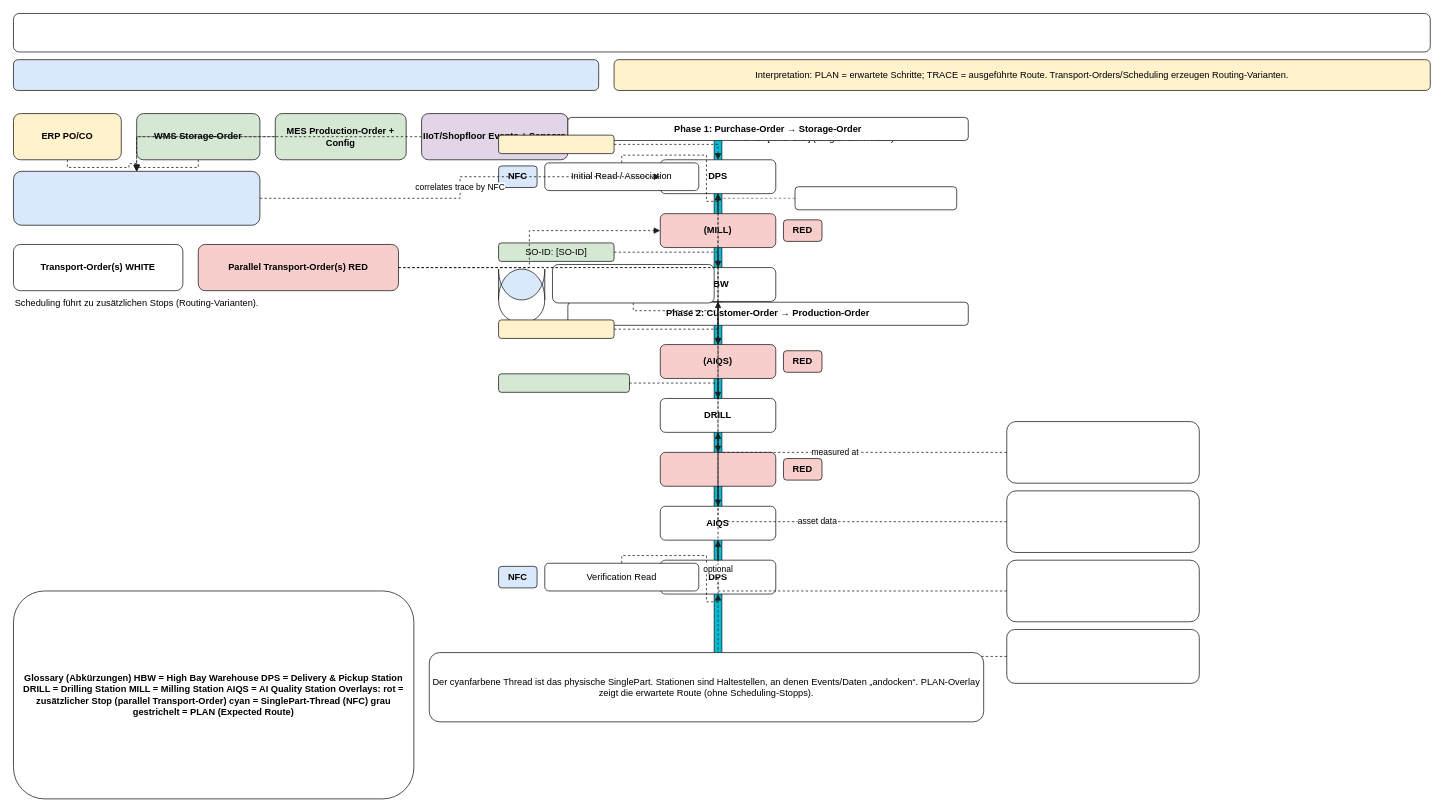
Some shapes in this 1444 by 812 pixel diagram are drawn without their labels. The shapes that lost their labels are listed below. From the top down, each one's centre as x and y in pixels, then its label:
At (x=721, y=32): "Track & Trace — Timeline (Vertical) | Produkt WHITE".
At (x=306, y=74): "NFC / Workpiece-ID (Join-Key): [NFC-UID] | Zeitraum: [t0..tN]".
At (x=556, y=144): "PO-ID: [PO-ID]".
At (x=136, y=198): "ORBIS DSP Korrelation + Enrichment (Join-Key = NFC)".
At (x=875, y=198): "PLAN-Overlay (Expected Route)".
At (x=633, y=283): "Linked to Bin: [BIN-ID] (z.B. Bin 03)".
At (x=556, y=328): "CO-ID: [CO-ID]".
At (x=563, y=382): "PROD-ID: [PROD-ID]".
At (x=718, y=469): "(DPS)".
At (x=1102, y=452): "Umgebungswerte (T, Humidity, ...) → SinglePart".
At (x=1102, y=521): "MachineStatus (Errors, OEE) → Asset".
At (x=1102, y=590): "Quality Result (AIQS Output, Images) → SinglePart".
At (x=1102, y=656): "HU/Container (optional) → HU enthält SingleParts".
